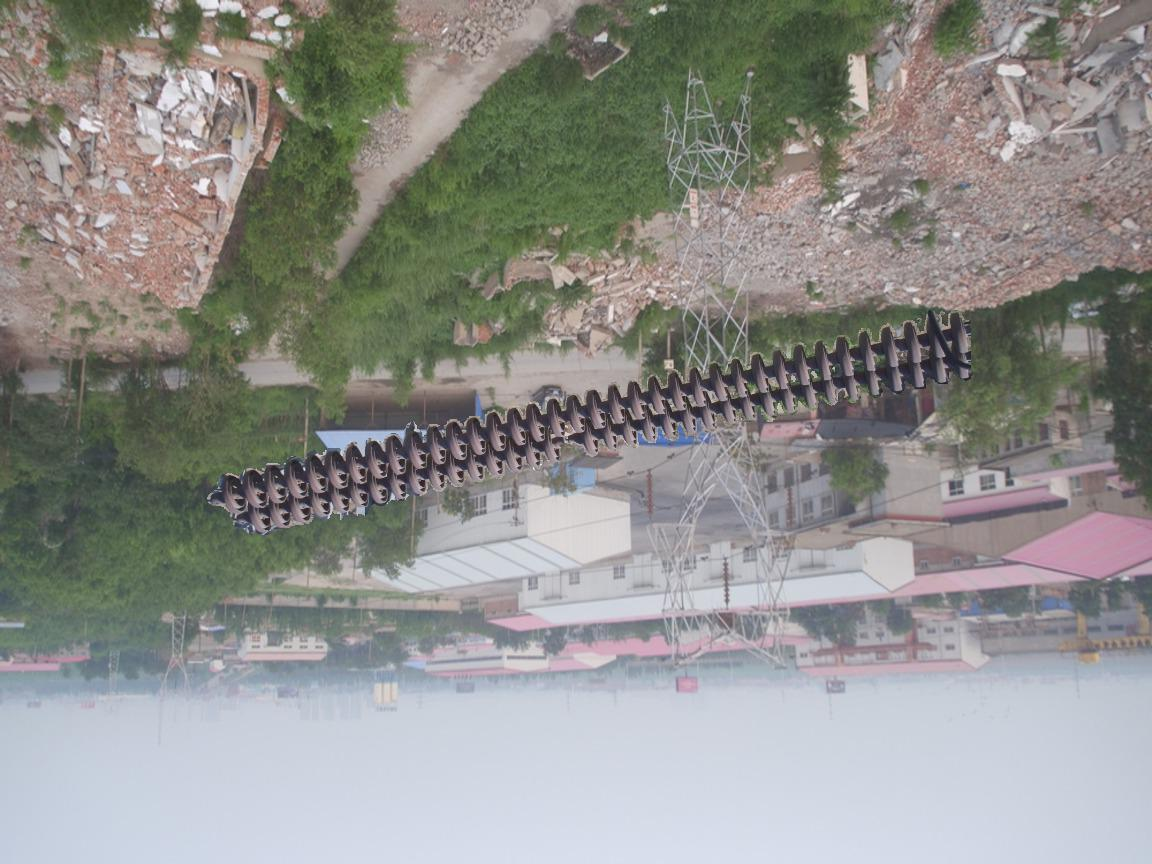insulator: (215, 305, 974, 538), (643, 469, 659, 519), (721, 556, 735, 607), (785, 482, 799, 529)
insulator_stringdrop: (542, 421, 600, 466)
